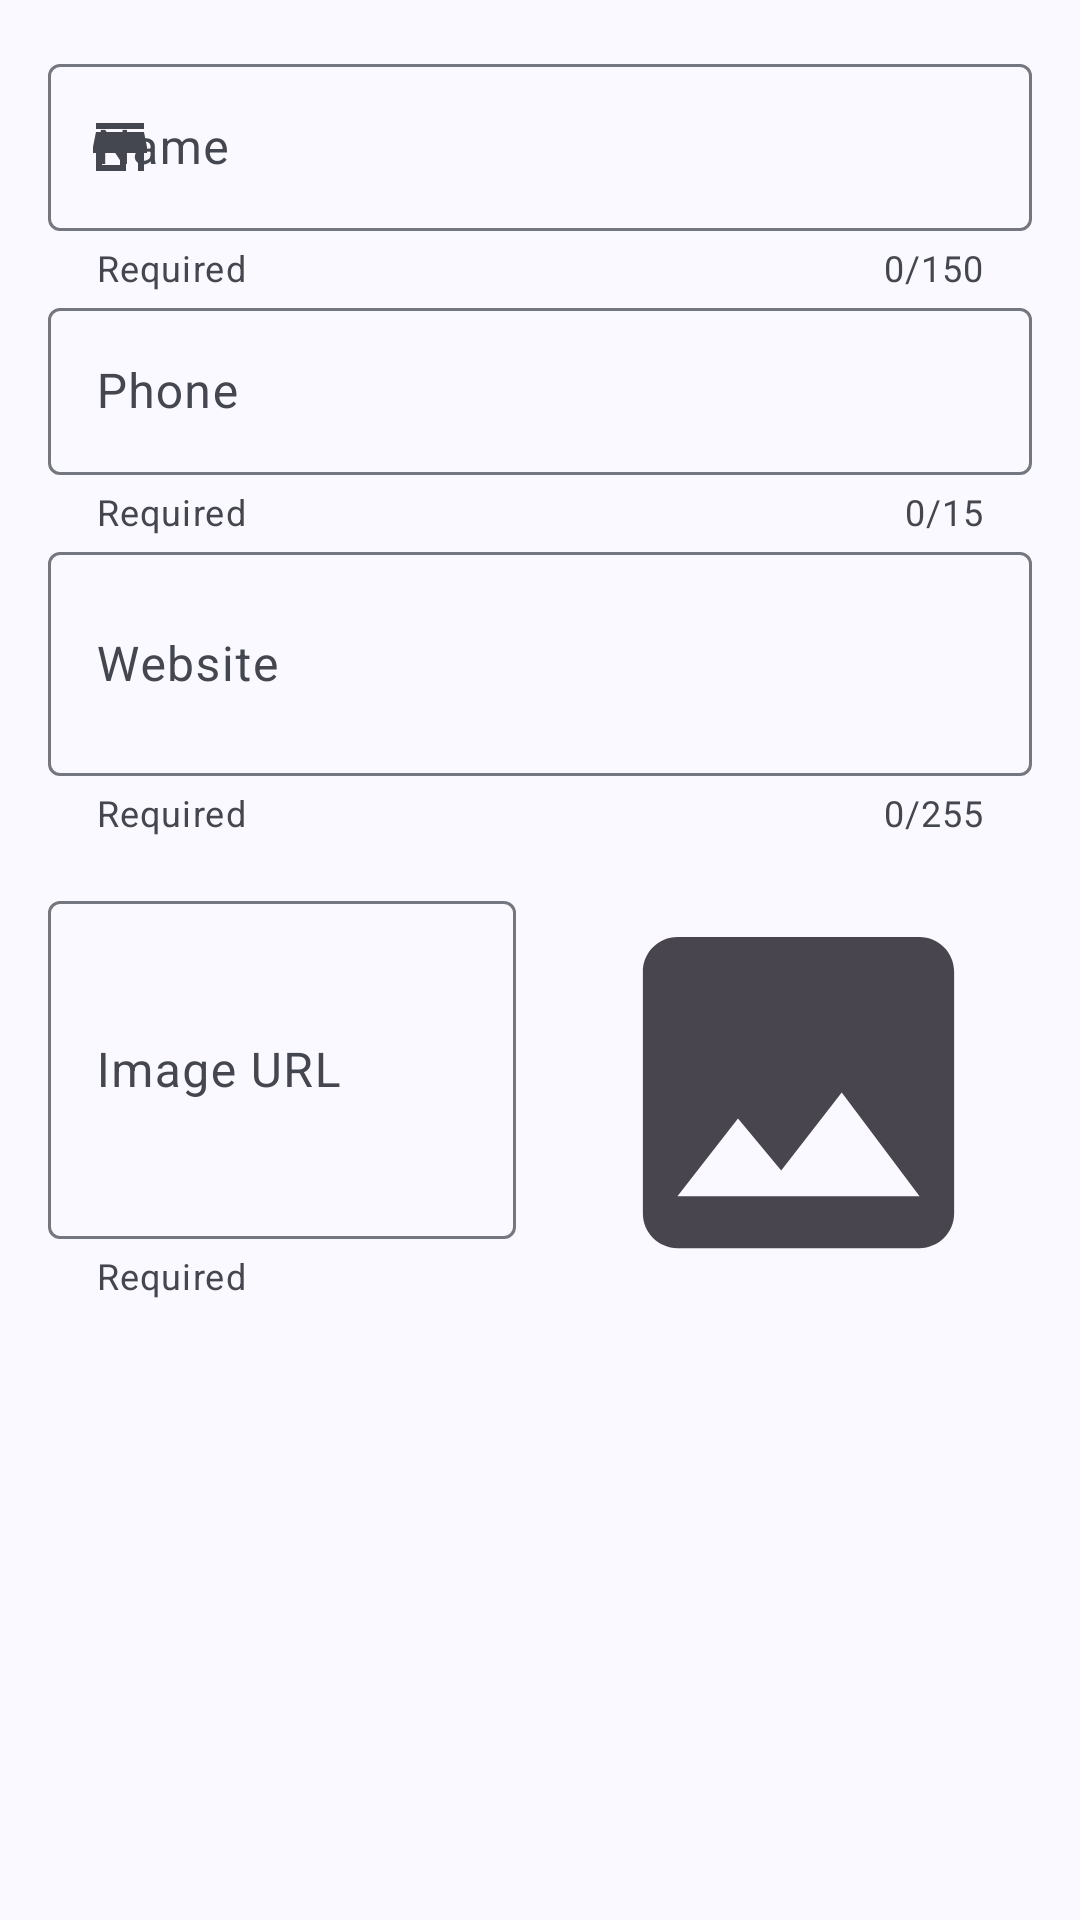

Icon click points for this 1080*1920 phone screenshot, format point (x, y):
Store image: point (798, 1093)
